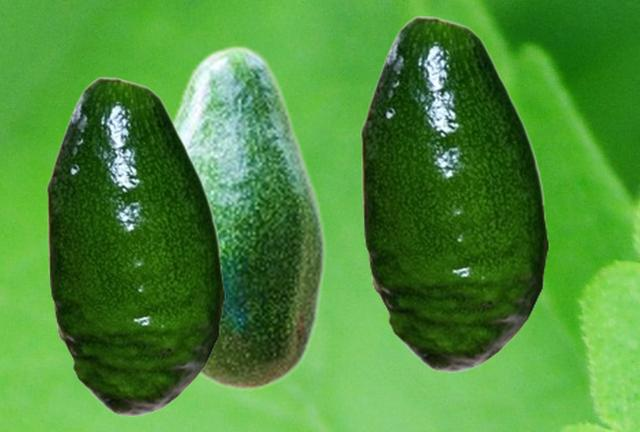avocado: (360, 15, 548, 371), (46, 76, 224, 415), (171, 44, 325, 391)
